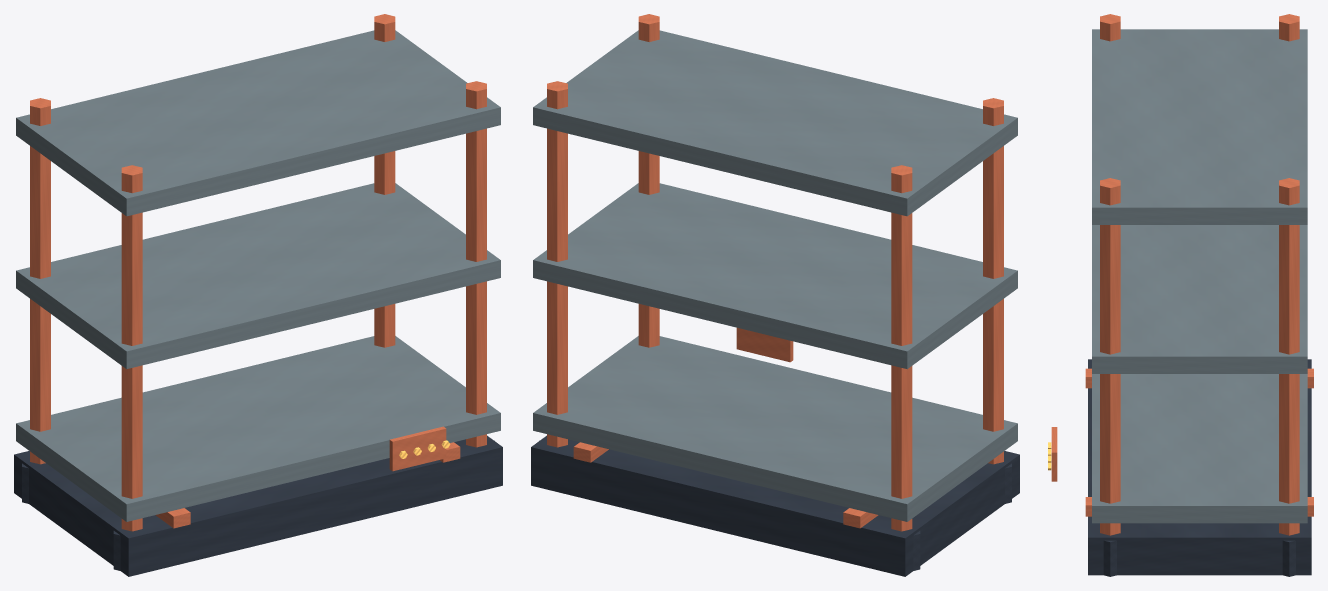
Rendered from atlas100-s023-a06.glb.
3 renders of one model, left to right at view 1: azimuth 30°, elevation 25°; view 2: azimuth 150°, elevation 25°; view 3: azimuth 270°, elevation 25°, orthographic. The views are drawn at different scales.
Visible parts, largest first — view 1: atlas100-s023-a06:part-013, atlas100-s023-a06:part-012, atlas100-s023-a06:part-011, atlas100-s023-a06:part-000, atlas100-s023-a06:part-005, atlas100-s023-a06:part-009, atlas100-s023-a06:part-003, atlas100-s023-a06:part-007, atlas100-s023-a06:part-014; view 2: atlas100-s023-a06:part-013, atlas100-s023-a06:part-012, atlas100-s023-a06:part-011, atlas100-s023-a06:part-000, atlas100-s023-a06:part-003, atlas100-s023-a06:part-007, atlas100-s023-a06:part-005, atlas100-s023-a06:part-009, atlas100-s023-a06:part-014; view 3: atlas100-s023-a06:part-013, atlas100-s023-a06:part-011, atlas100-s023-a06:part-012, atlas100-s023-a06:part-000, atlas100-s023-a06:part-009, atlas100-s023-a06:part-007, atlas100-s023-a06:part-003, atlas100-s023-a06:part-005, atlas100-s023-a06:part-008, atlas100-s023-a06:part-010, atlas100-s023-a06:part-014.
Boxes of the visible parts, x1=… form: atlas100-s023-a06:part-013: x1=16, y1=30, x2=500, y2=216; atlas100-s023-a06:part-012: x1=16, y1=183, x2=500, y2=369; atlas100-s023-a06:part-011: x1=16, y1=336, x2=500, y2=521; atlas100-s023-a06:part-000: x1=14, y1=435, x2=502, y2=576; atlas100-s023-a06:part-005: x1=121, y1=165, x2=142, y2=531; atlas100-s023-a06:part-009: x1=466, y1=81, x2=486, y2=447; atlas100-s023-a06:part-003: x1=30, y1=98, x2=50, y2=464; atlas100-s023-a06:part-007: x1=374, y1=14, x2=395, y2=347; atlas100-s023-a06:part-014: x1=389, y1=426, x2=446, y2=471; atlas100-s023-a06:part-013: x1=533, y1=30, x2=1017, y2=216; atlas100-s023-a06:part-012: x1=533, y1=183, x2=1017, y2=369; atlas100-s023-a06:part-011: x1=533, y1=336, x2=1017, y2=521; atlas100-s023-a06:part-000: x1=531, y1=435, x2=1019, y2=576; atlas100-s023-a06:part-003: x1=891, y1=165, x2=912, y2=531; atlas100-s023-a06:part-007: x1=547, y1=81, x2=567, y2=447; atlas100-s023-a06:part-005: x1=983, y1=98, x2=1003, y2=464; atlas100-s023-a06:part-009: x1=638, y1=14, x2=659, y2=347; atlas100-s023-a06:part-014: x1=736, y1=327, x2=793, y2=362; atlas100-s023-a06:part-013: x1=1092, y1=29, x2=1307, y2=224; atlas100-s023-a06:part-011: x1=1092, y1=374, x2=1307, y2=523; atlas100-s023-a06:part-012: x1=1092, y1=225, x2=1307, y2=373; atlas100-s023-a06:part-000: x1=1088, y1=359, x2=1311, y2=575; atlas100-s023-a06:part-009: x1=1100, y1=178, x2=1120, y2=535; atlas100-s023-a06:part-007: x1=1279, y1=178, x2=1299, y2=535; atlas100-s023-a06:part-003: x1=1279, y1=14, x2=1299, y2=41; atlas100-s023-a06:part-005: x1=1100, y1=14, x2=1120, y2=41; atlas100-s023-a06:part-008: x1=1282, y1=540, x2=1295, y2=576; atlas100-s023-a06:part-010: x1=1103, y1=540, x2=1116, y2=576; atlas100-s023-a06:part-014: x1=1051, y1=427, x2=1057, y2=481.
Bounding box in the file's own units: 2.69 × 2.66 × 1.66.
4 materials, 4 textured.
